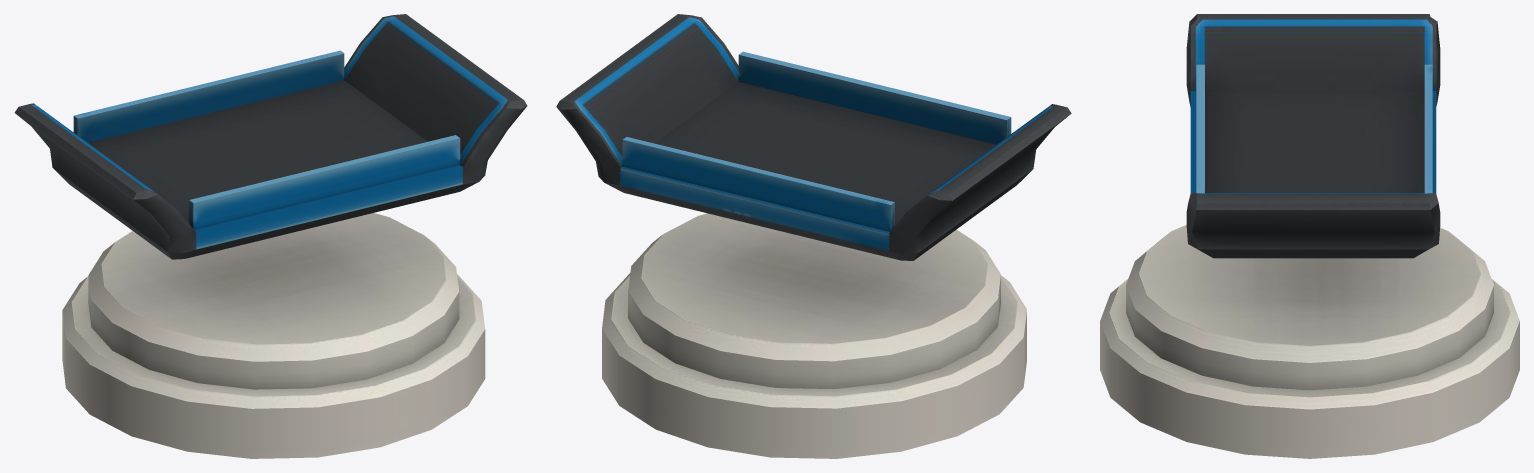
Rendered from CARROPRATA.fbx.
3 views of the same model, side by side, from view 1: azimuth 30°, elevation 25°; view 2: azimuth 150°, elevation 25°; view 3: azimuth 270°, elevation 25° (orthographic).
Visible parts, largest first — view 1: polySurface45, polySurface44; view 2: polySurface45, polySurface44; view 3: polySurface45, polySurface44.
Part boxes in pixels (x1,y1,x2,y2): polySurface45: (62, 213, 485, 458); polySurface44: (14, 14, 527, 259); polySurface45: (602, 213, 1026, 458); polySurface44: (556, 14, 1071, 260); polySurface45: (1100, 225, 1519, 458); polySurface44: (1186, 14, 1440, 258).
Bounding box in the file's own units: 0.5112 × 0.3298 × 0.4773.
1 material, 1 textured.
